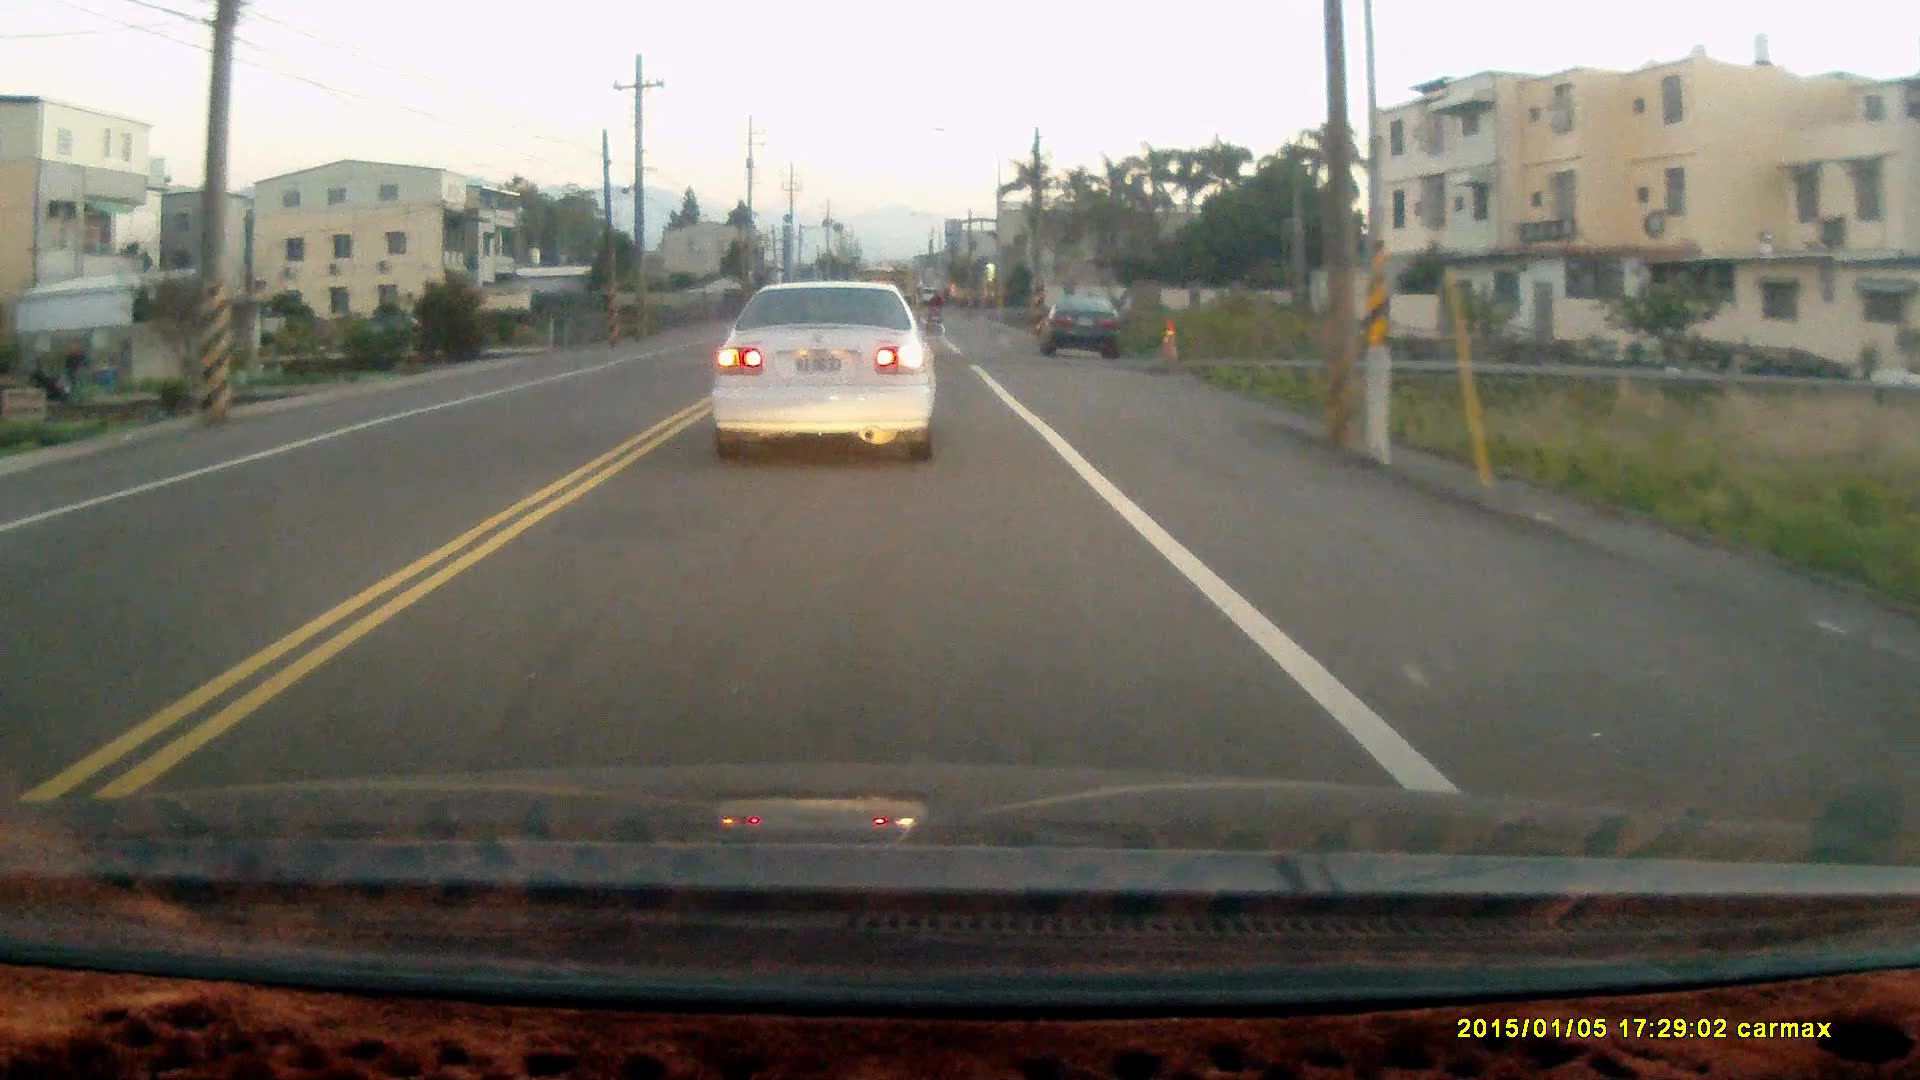pedestrian: (61, 335, 86, 402)
vehicle: (707, 277, 941, 468), (1038, 293, 1124, 361)
